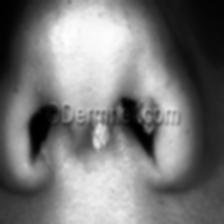Toxin: (137, 98, 155, 136), (92, 119, 113, 147)
